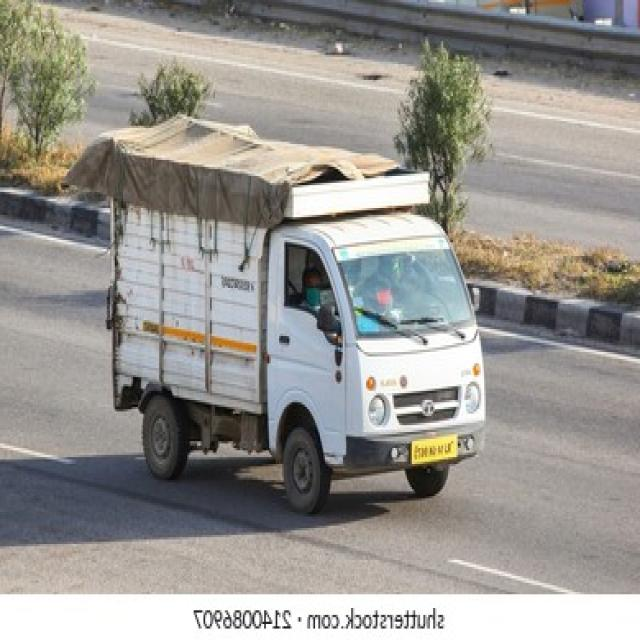truck: (67, 117, 485, 513)
